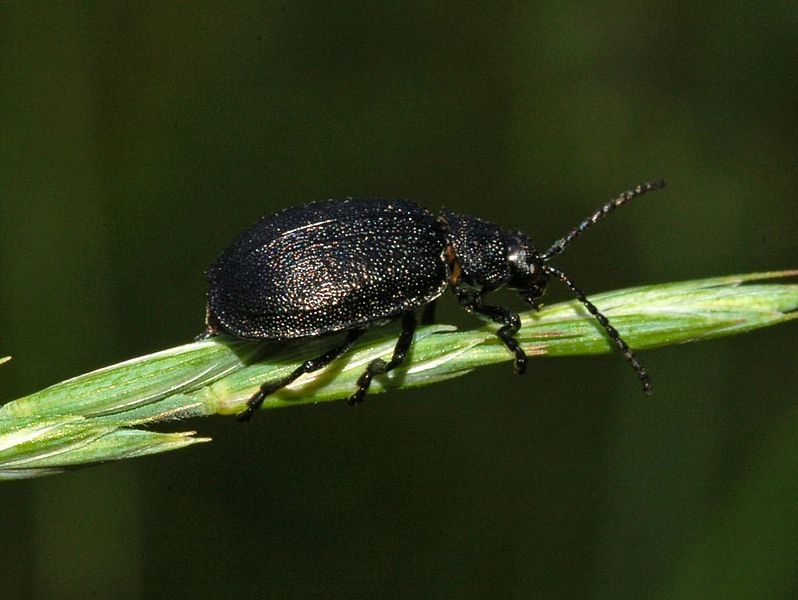Galeruca_tanaceti: (204, 162, 669, 420)
